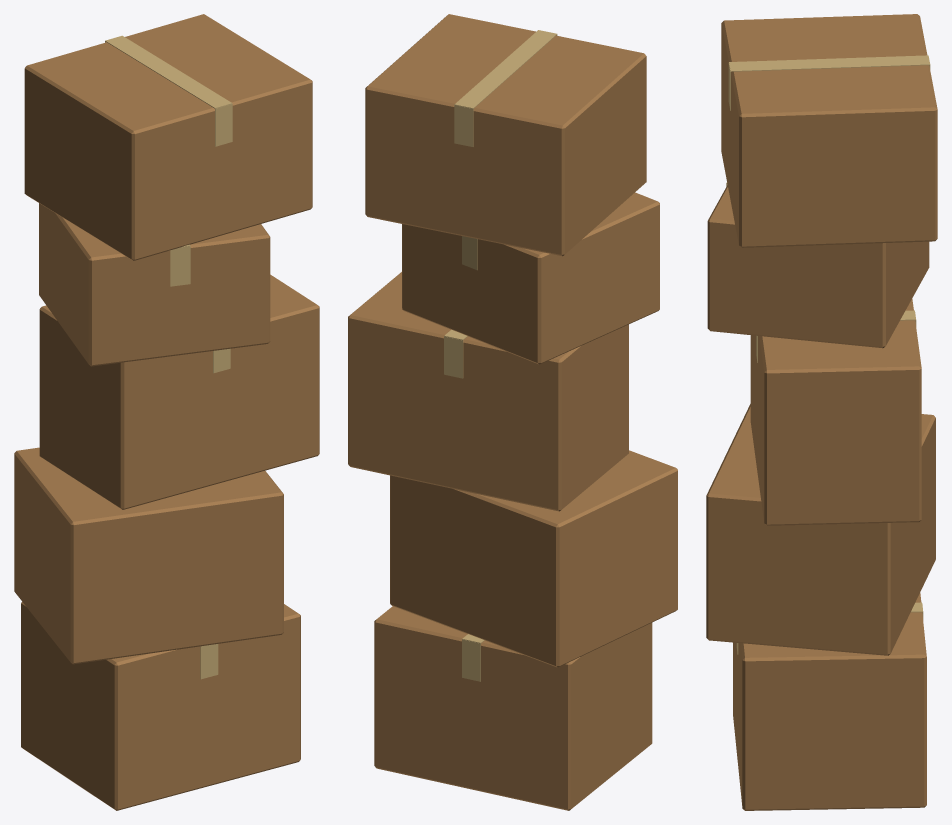
File: PilhaDeCaixas.fbx
3 renders of one model, left to right at view 1: azimuth 30°, elevation 25°; view 2: azimuth 150°, elevation 25°; view 3: azimuth 270°, elevation 25°, orthographic. The views are drawn at different scales.
Visible parts, largest first — view 1: PilhaDeCaixas; view 2: PilhaDeCaixas; view 3: PilhaDeCaixas.
Part boxes in pixels (box(x1,y1,x2,y2)): PilhaDeCaixas: box(14, 14, 319, 810); PilhaDeCaixas: box(348, 14, 677, 810); PilhaDeCaixas: box(706, 14, 937, 810).
Bounding box in the file's own units: 0.7032 × 1.79 × 0.5354.
